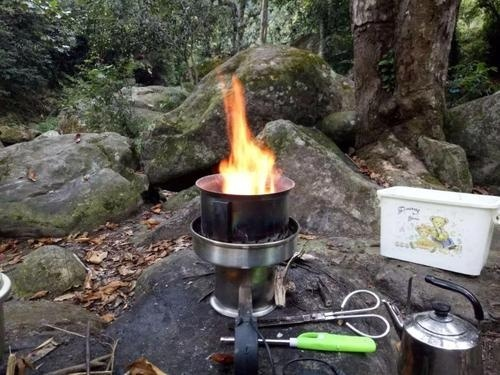fire: (215, 72, 282, 194)
